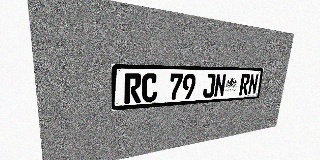7: (168, 74, 183, 101)
9: (182, 74, 196, 100)
C: (141, 73, 158, 102)
J: (202, 74, 216, 98)
N: (213, 74, 226, 97), (248, 74, 259, 95)
R: (124, 73, 142, 104), (239, 74, 250, 95)
